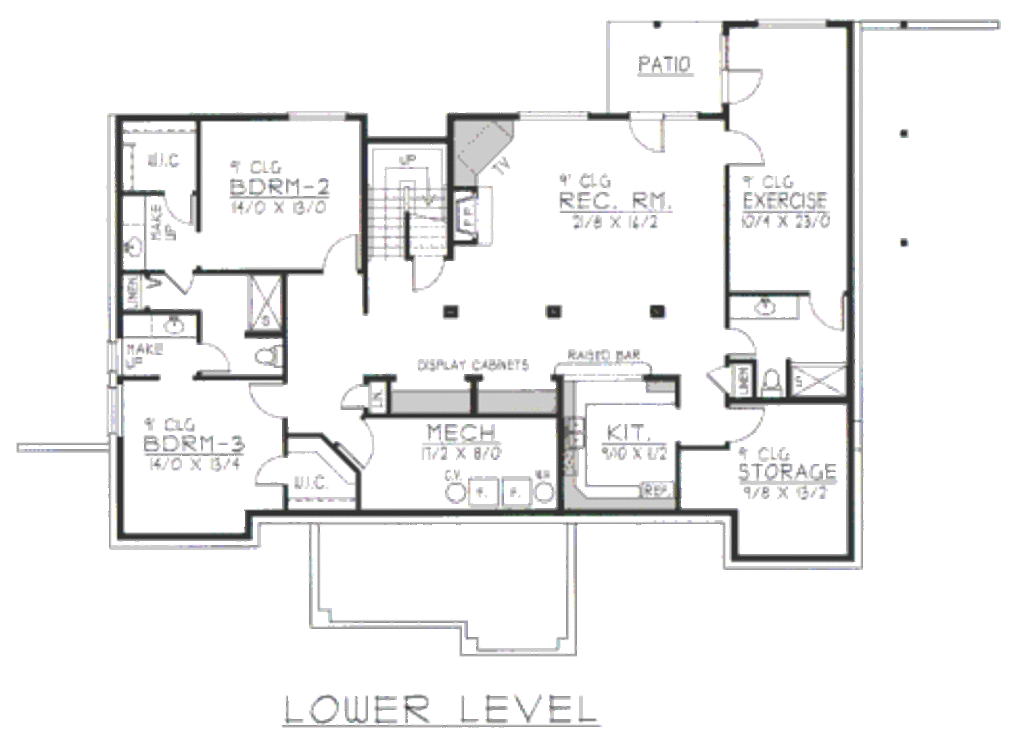door: (715, 404, 776, 450), (326, 420, 378, 470), (803, 288, 854, 333), (624, 106, 670, 153), (723, 58, 767, 106), (253, 446, 299, 489), (158, 183, 200, 230), (189, 340, 236, 382), (724, 122, 767, 167), (408, 255, 449, 298), (314, 231, 355, 273), (247, 378, 286, 420), (725, 320, 764, 355), (158, 265, 200, 296), (338, 375, 368, 410)
large_sink: (252, 334, 286, 372), (758, 363, 788, 402)
small_sink: (729, 291, 799, 320), (119, 226, 143, 271), (152, 316, 199, 337)
stairs: (368, 139, 443, 256)
window: (513, 103, 594, 127), (745, 16, 828, 34), (279, 101, 347, 122), (107, 384, 133, 438)
